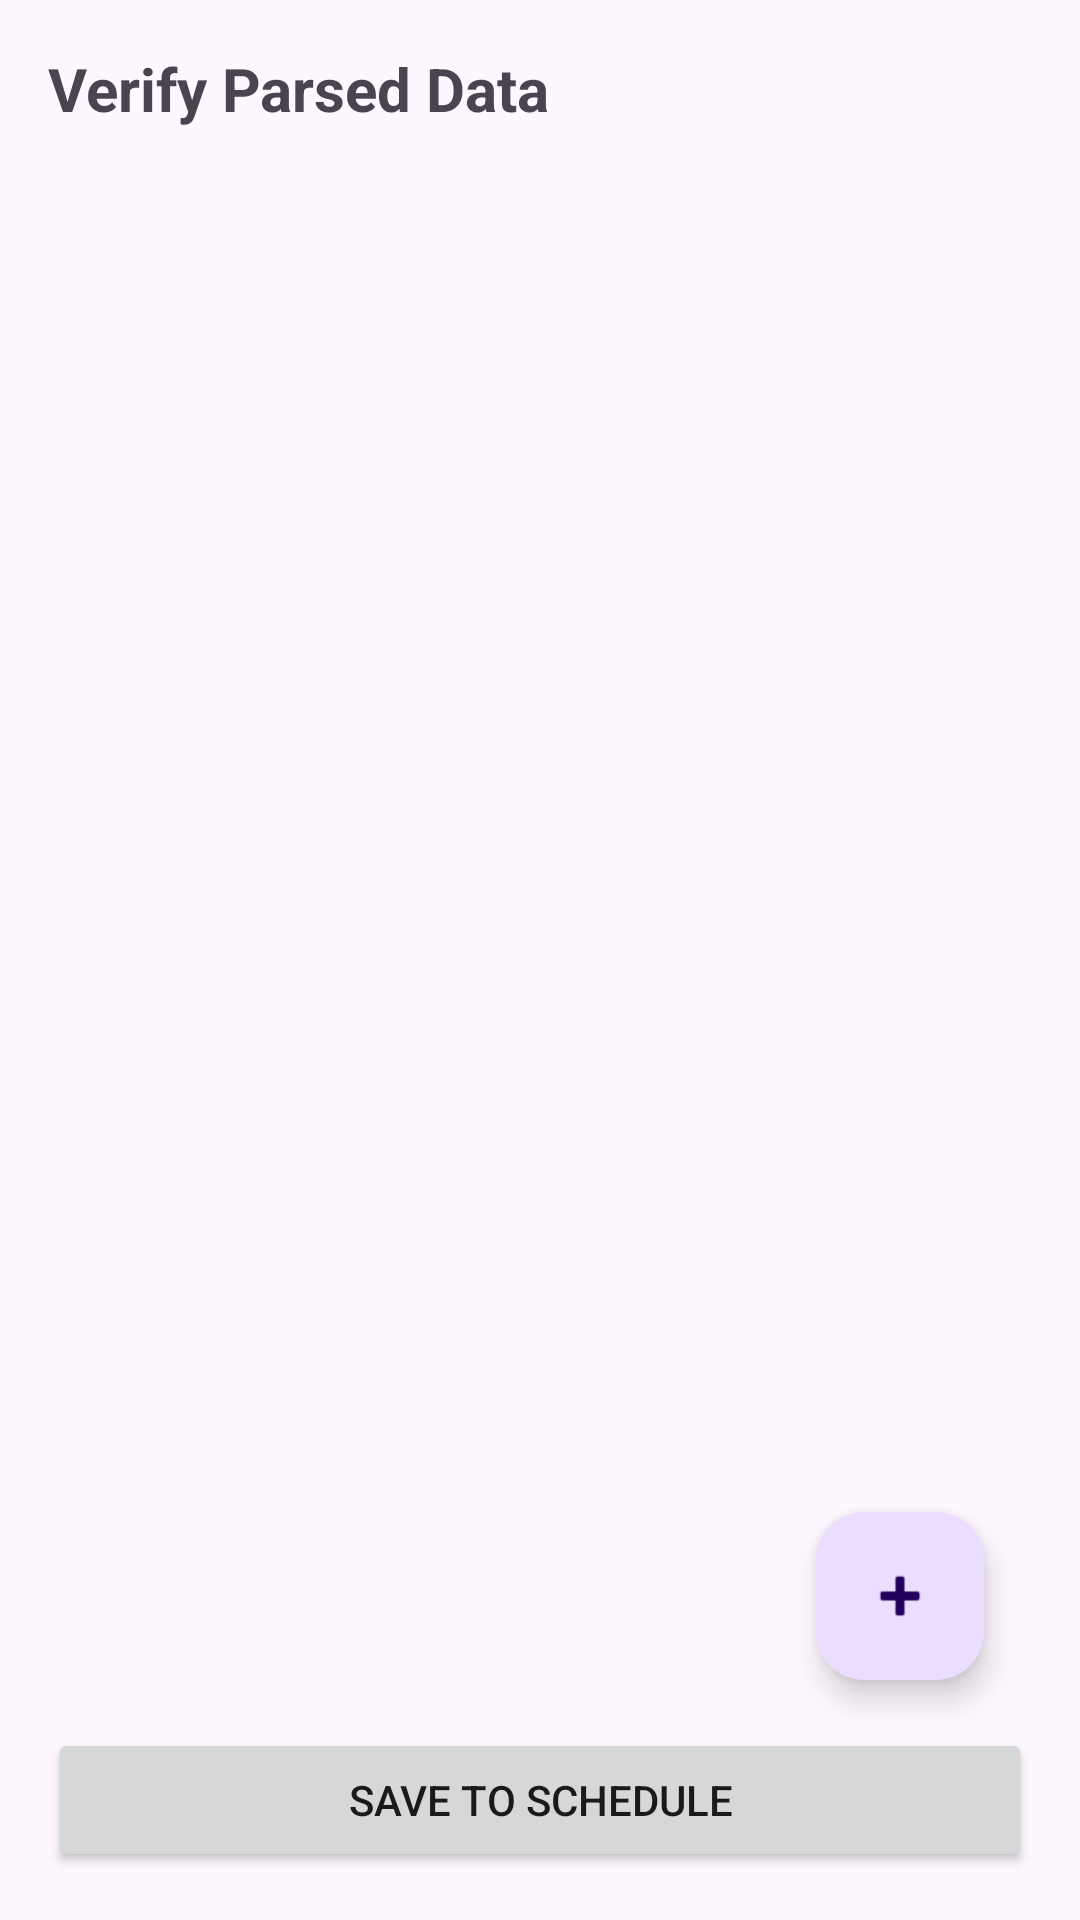

Icon bounding boxes for this 1080x1920 phone screenshot, format [x1, y1, x2, y2]:
Add Class: [816, 1512, 984, 1680]
